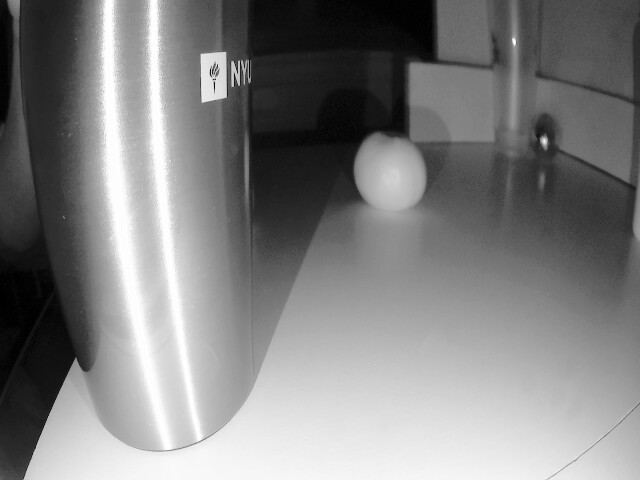silver: (532, 112, 563, 167)
